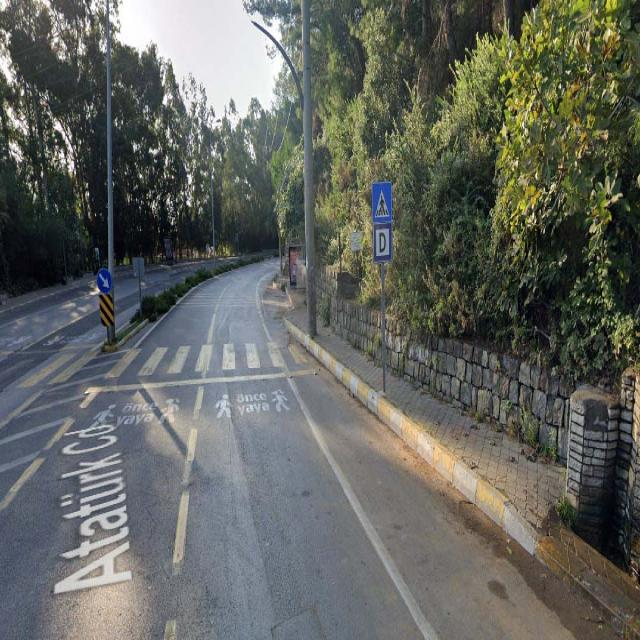durak: (373, 224, 391, 261)
